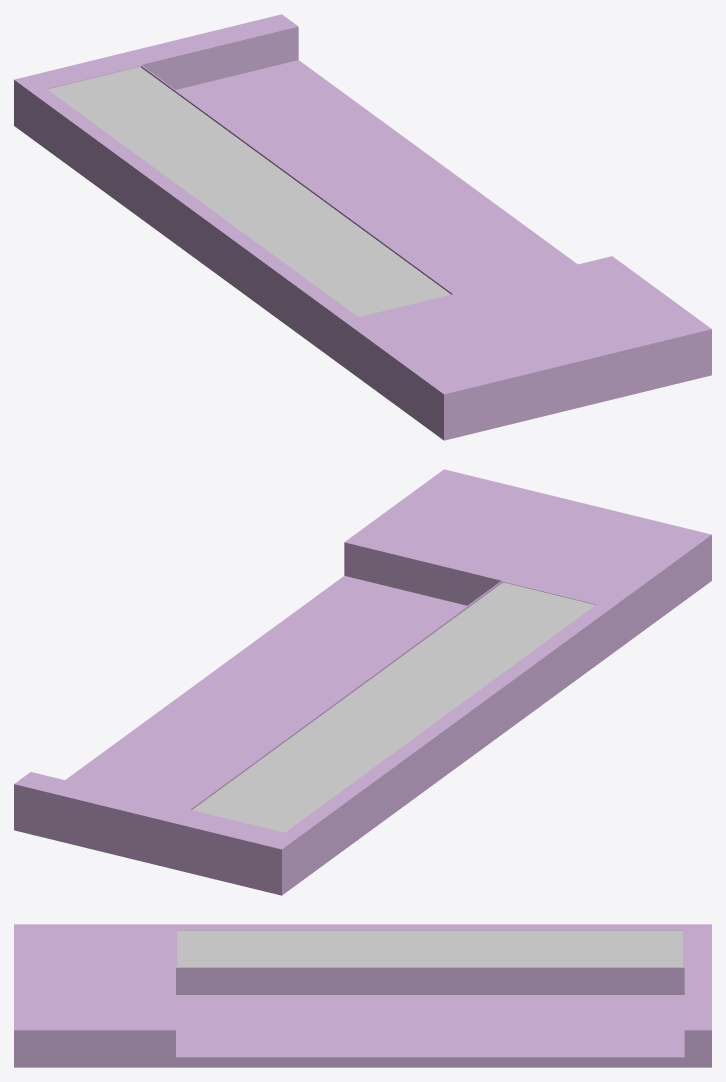
The model's file is CasioNoKeys.gltf.
The picture shows the model from 3 angles, top to bottom: view 1: azimuth 30°, elevation 25°; view 2: azimuth 150°, elevation 25°; view 3: azimuth 270°, elevation 25°; orthographic projection. The views are drawn at different scales.
Parts seen in each view (by area): view 1: KeyboardBase, Cube; view 2: KeyboardBase, Cube; view 3: KeyboardBase, Cube.
Boxes of the visible parts, <box> form: KeyboardBase: <box>14,14,711,440</box>; Cube: <box>47,67,450,316</box>; KeyboardBase: <box>14,469,711,895</box>; Cube: <box>192,582,595,832</box>; KeyboardBase: <box>14,924,711,1067</box>; Cube: <box>177,930,682,967</box>.
Size of the model in its own units: 0.9016 by 0.1486 by 2.51.
